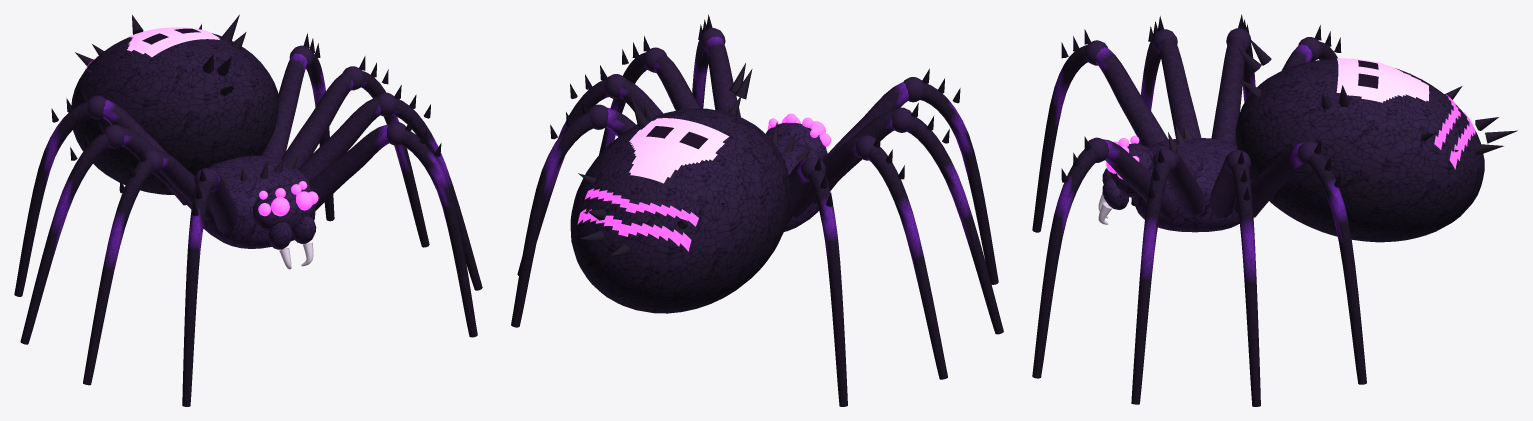
Rendered from 2a85ea80-fbbb-4d7f-a6d6-2a6d66c4683e.glb.
The picture shows the model from 3 angles, left to right: view 1: azimuth 30°, elevation 25°; view 2: azimuth 150°, elevation 25°; view 3: azimuth 270°, elevation 25°; orthographic projection. The views are drawn at different scales.
Parts seen in each view (by area): view 1: Body, LegL, LegL2, LegR2, LegL3, LegR, LegR3, LegR4, LegL4, Head, Jaw; view 2: Body, LegR3, LegR, LegR2, LegL4, LegR4, LegL, LegL2, LegL3, Head; view 3: Body, LegR, LegL, LegL4, LegL2, LegL3, LegR2, LegR3, LegR4, Head, Jaw.
Boxes of the visible parts, bbox=[...] form: Body: bbox=[71, 14, 315, 248]; LegL: bbox=[309, 117, 477, 337]; LegL2: bbox=[298, 85, 482, 290]; LegR2: bbox=[83, 148, 212, 385]; LegL3: bbox=[281, 56, 429, 247]; LegR: bbox=[182, 168, 238, 406]; LegR3: bbox=[20, 120, 191, 344]; LegR4: bbox=[14, 88, 186, 296]; LegL4: bbox=[261, 33, 334, 221]; Head: bbox=[253, 181, 318, 232]; Jaw: bbox=[268, 216, 316, 269]; Body: bbox=[570, 63, 822, 313]; LegR3: bbox=[793, 133, 947, 379]; LegR: bbox=[822, 68, 998, 284]; LegR2: bbox=[813, 103, 1003, 334]; LegL4: bbox=[511, 99, 636, 327]; LegR4: bbox=[786, 157, 847, 406]; LegL: bbox=[692, 14, 740, 116]; LegL2: bbox=[599, 36, 700, 154]; LegL3: bbox=[517, 65, 663, 275]; Head: bbox=[765, 113, 831, 158]; Body: bbox=[1132, 38, 1517, 242]; LegR: bbox=[1032, 29, 1168, 232]; LegL: bbox=[1032, 136, 1174, 378]; LegL4: bbox=[1234, 140, 1366, 384]; LegL2: bbox=[1131, 149, 1204, 404]; LegL3: bbox=[1209, 150, 1260, 406]; LegR2: bbox=[1131, 16, 1201, 205]; LegR3: bbox=[1211, 14, 1255, 144]; LegR4: bbox=[1282, 25, 1341, 70]; Head: bbox=[1106, 135, 1152, 197]; Jaw: bbox=[1098, 168, 1128, 224].
Size of the model in its own units: 3.58 by 2.08 by 3.53.
Materials: 6 (2 with a texture image).
